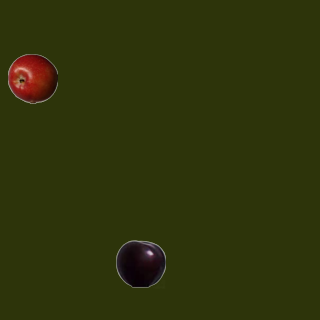Apple Braeburn: (7, 53, 57, 103)
Cherry Wax Black: (115, 238, 165, 288)
